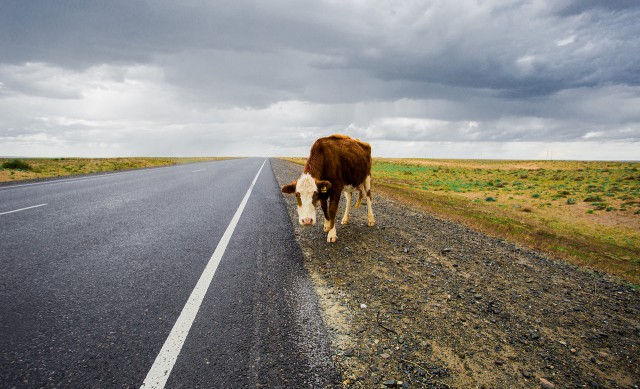inek: (278, 131, 379, 256)
